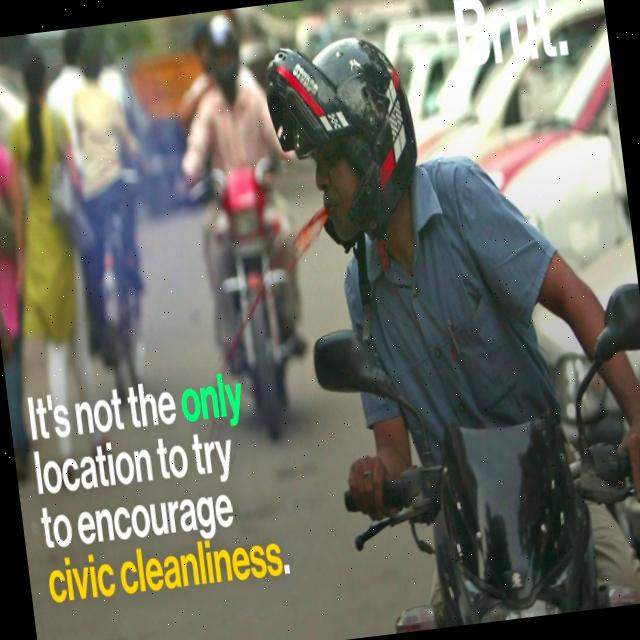spit: (206, 188, 353, 422)
